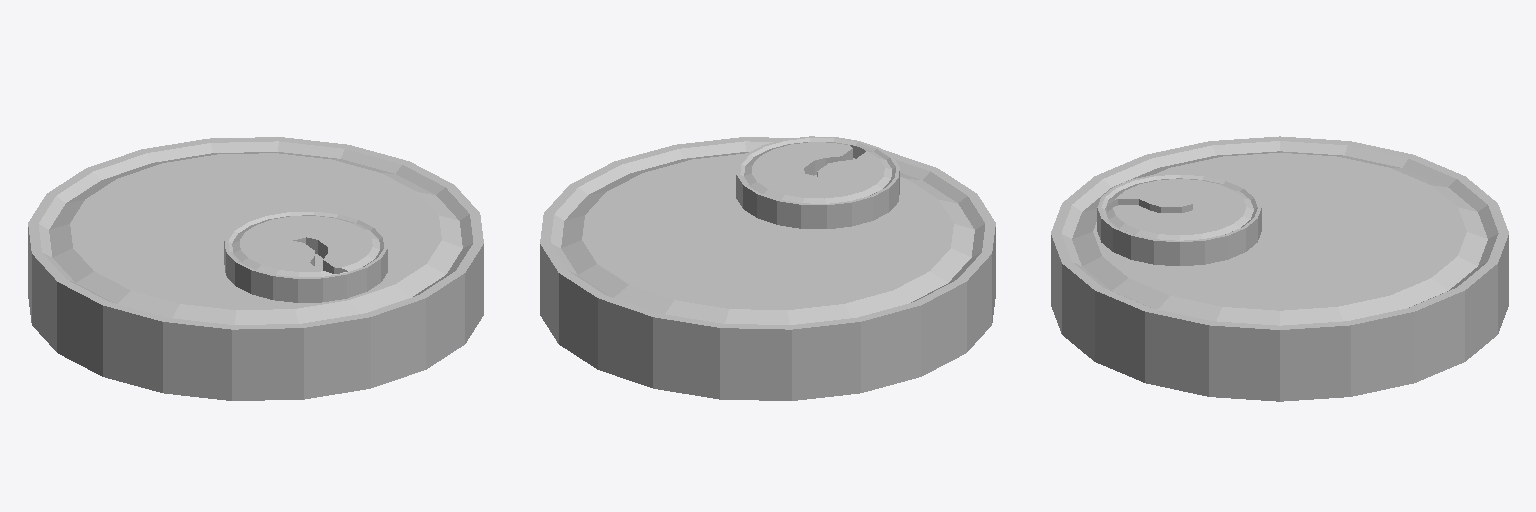
File: Lock.obj
The picture shows the model from 3 angles: view 1: azimuth 30°, elevation 25°; view 2: azimuth 150°, elevation 25°; view 3: azimuth 270°, elevation 25°; orthographic projection.
Parts seen in each view (by area): view 1: polySurface3_Mesh; view 2: polySurface3_Mesh; view 3: polySurface3_Mesh.
Part boxes in pixels (x1,y1,x2,y2): polySurface3_Mesh: (28, 137, 483, 400); polySurface3_Mesh: (540, 136, 995, 400); polySurface3_Mesh: (1051, 136, 1508, 401).
Bounding box in the file's own units: 0.0439 × 0.0103 × 0.0439.